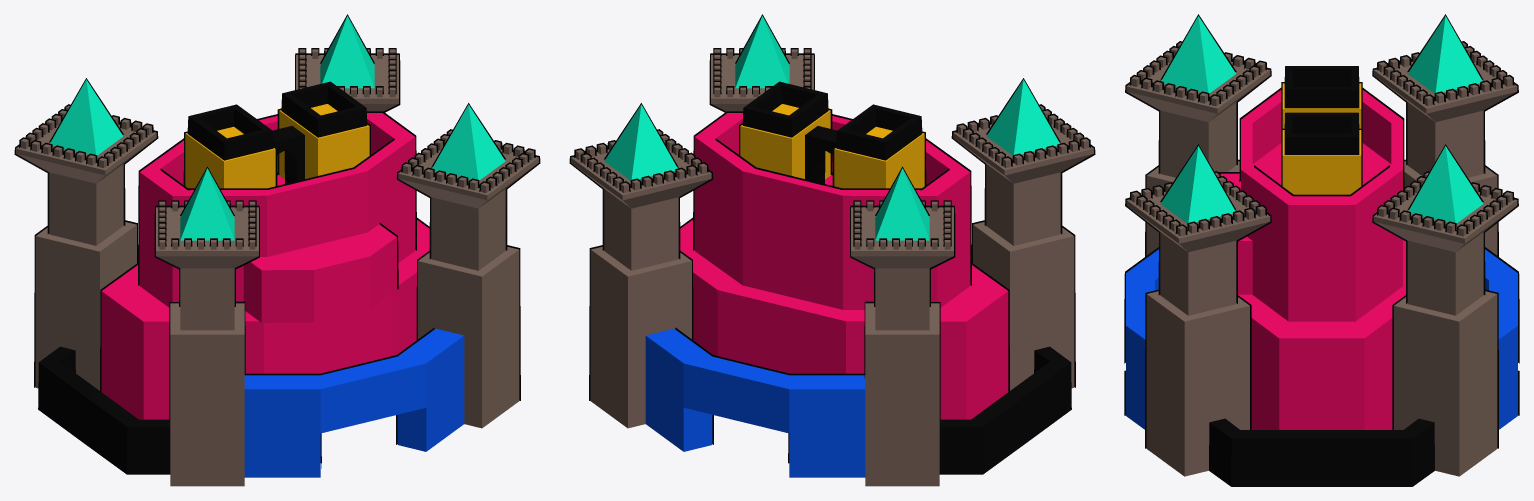
File: SbS_Symbol_Fortress.fbx
3 renders of one model, left to right at view 1: azimuth 30°, elevation 25°; view 2: azimuth 150°, elevation 25°; view 3: azimuth 270°, elevation 25°, orthographic. The views are drawn at different scales.
Visible parts, largest first — view 1: Symbol_Town2, Edge; view 2: Symbol_Town2, Edge; view 3: Symbol_Town2, Edge.
Part boxes in pixels (x1,y1,x2,y2): Symbol_Town2: [16, 16, 538, 486]; Edge: [14, 14, 540, 474]; Symbol_Town2: [571, 16, 1093, 486]; Edge: [569, 14, 1095, 474]; Symbol_Town2: [1126, 16, 1517, 476]; Edge: [1124, 14, 1519, 486].
Bounding box in the file's own units: 1244 × 927 × 1070.
